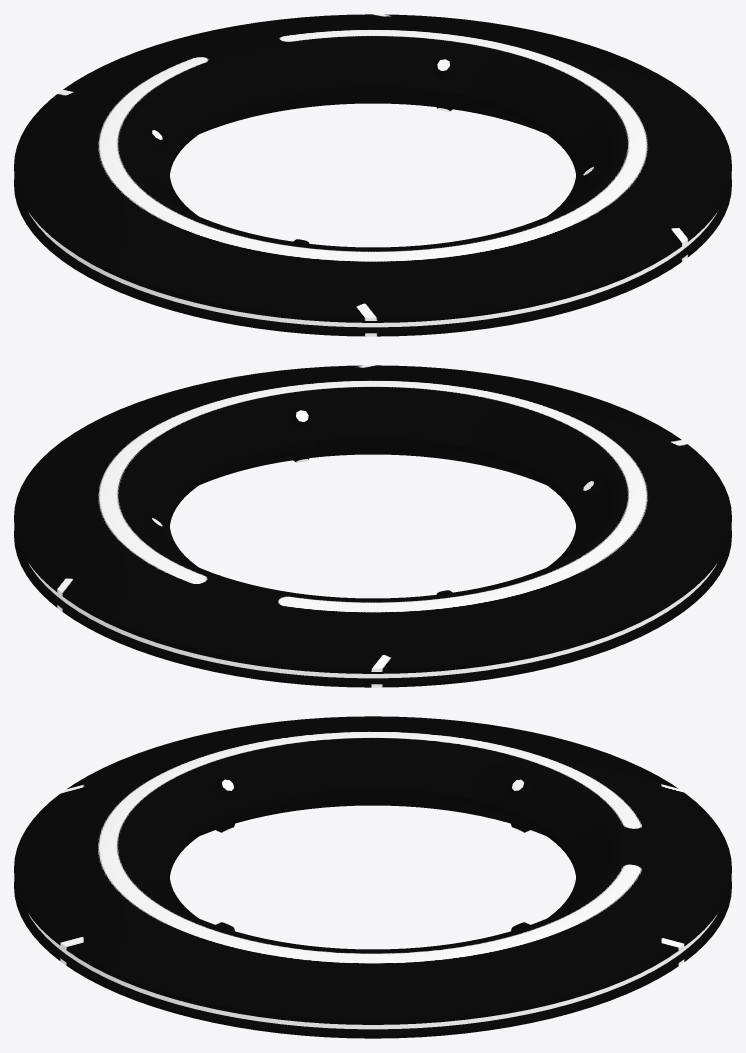
File: ring.glb
3 renders of one model, top to bottom at view 1: azimuth 30°, elevation 25°; view 2: azimuth 150°, elevation 25°; view 3: azimuth 270°, elevation 25°, orthographic.
Visible parts, largest first — view 1: Identity Disc; view 2: Identity Disc; view 3: Identity Disc.
Part boxes in pixels (box(x1,y1,x2,y2)): Identity Disc: box(14, 14, 731, 336); Identity Disc: box(14, 365, 731, 687); Identity Disc: box(14, 716, 731, 1038).
Size of the model in its own units: 2.33 by 0.2272 by 2.33.
Materials: 1 (1 with a texture image).
